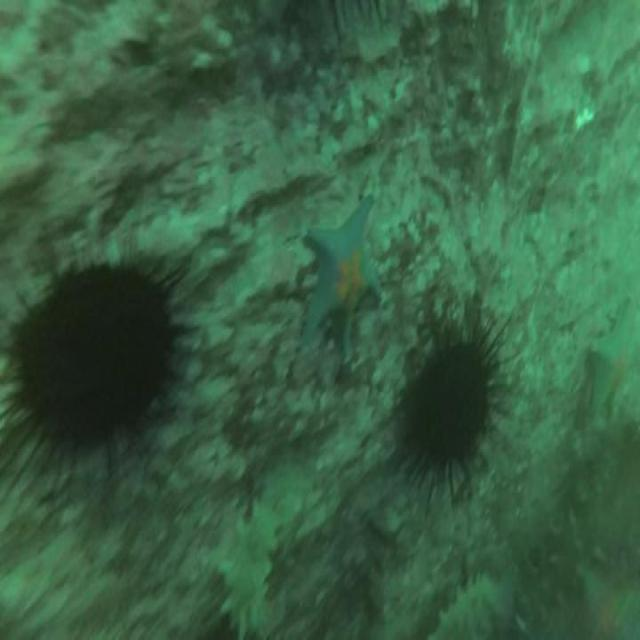echinus: (1, 229, 201, 503), (394, 300, 508, 509)
holothurian: (212, 496, 284, 640), (424, 573, 506, 640)
starfish: (293, 192, 384, 366), (584, 284, 640, 433), (577, 567, 640, 640)
